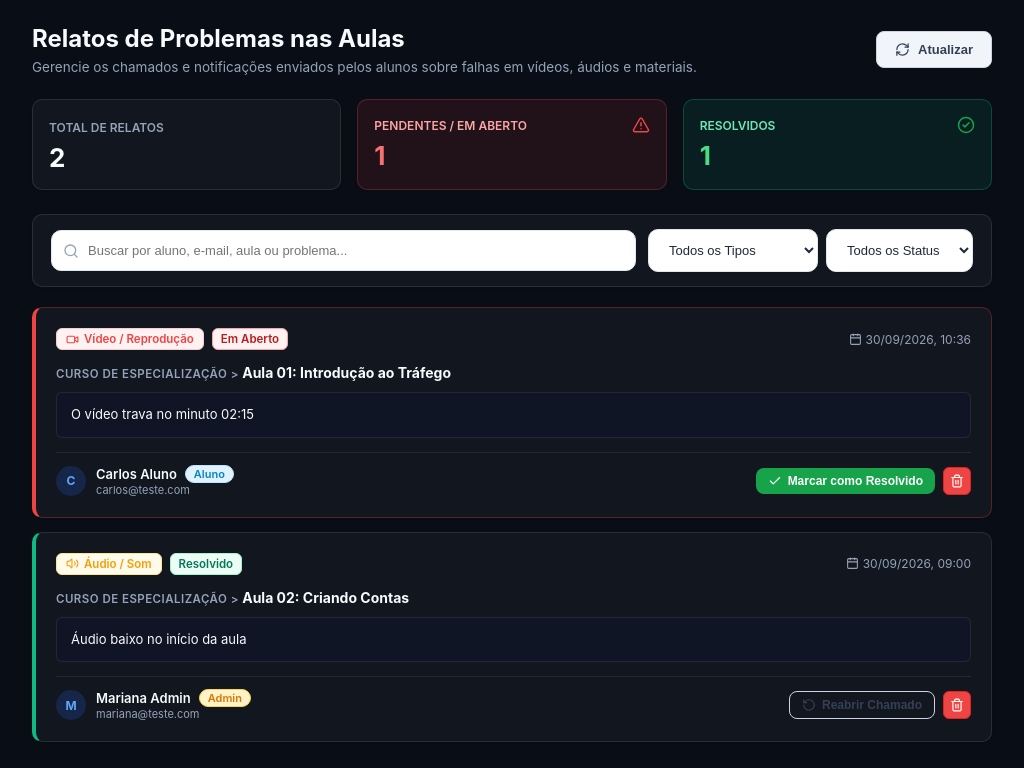
Test case: LessonReportsManagement Component › filters reports by search query and issue type
Expected: the text "Carlos Aluno" is shown, [96,466,177,482]
// Filtra por busca textual
Type "Mariana" into the field with test id "search-reports-input" at {"x": 344, "y": 250}, box [51,230,636,271]
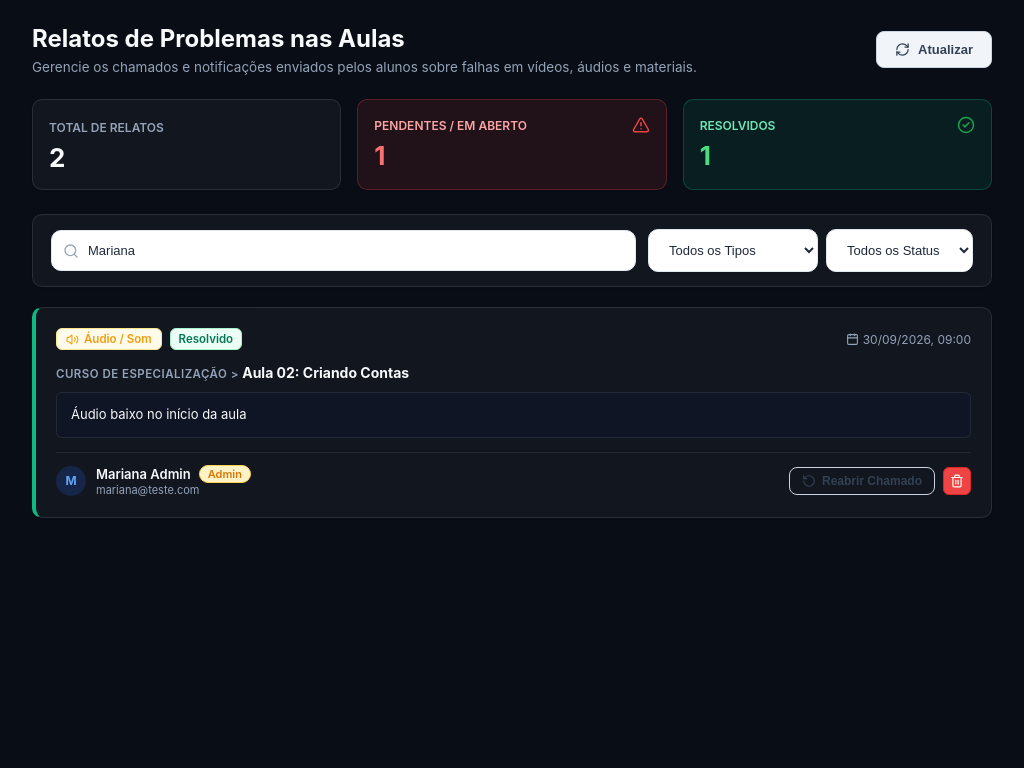
Expected: the text "Mariana Admin" is shown, [96,466,191,482]
Expected: the text "Carlos Aluno" is gone
// Limpa busca e filtra por tipo de problema
Clear the field with test id "search-reports-input" at {"x": 344, "y": 250}, box [51,230,636,271]
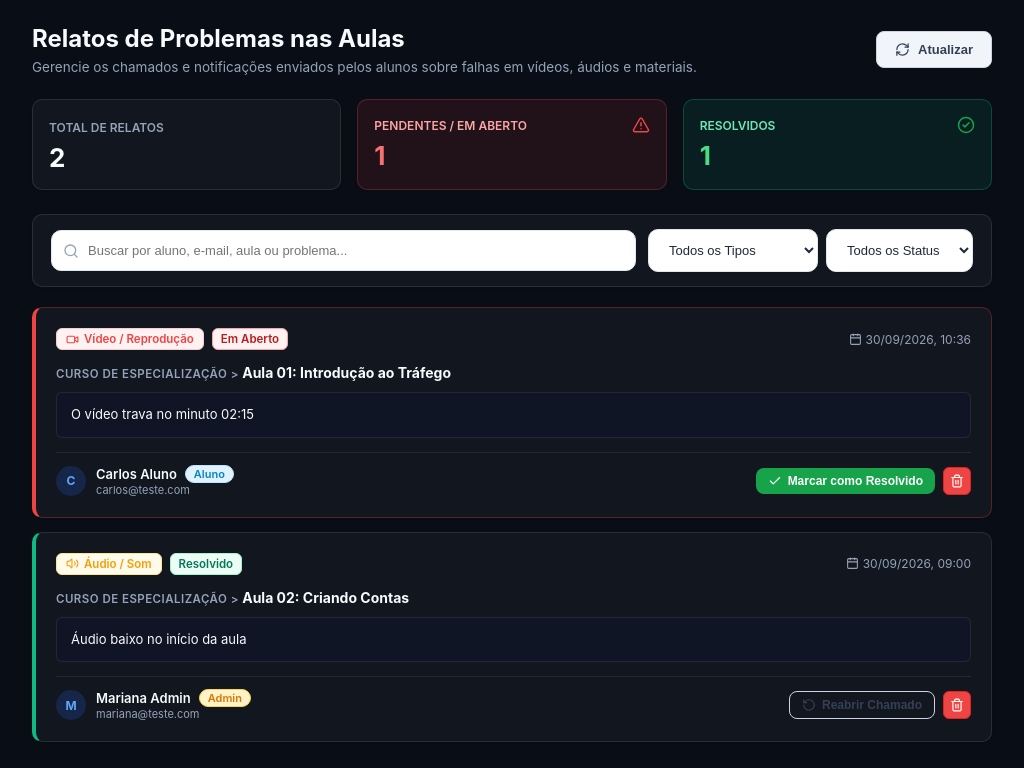
Select "Vídeo / Reprodução" in the dropdown with test id "filter-issue-type" at {"x": 733, "y": 250}, box [648,229,818,272]
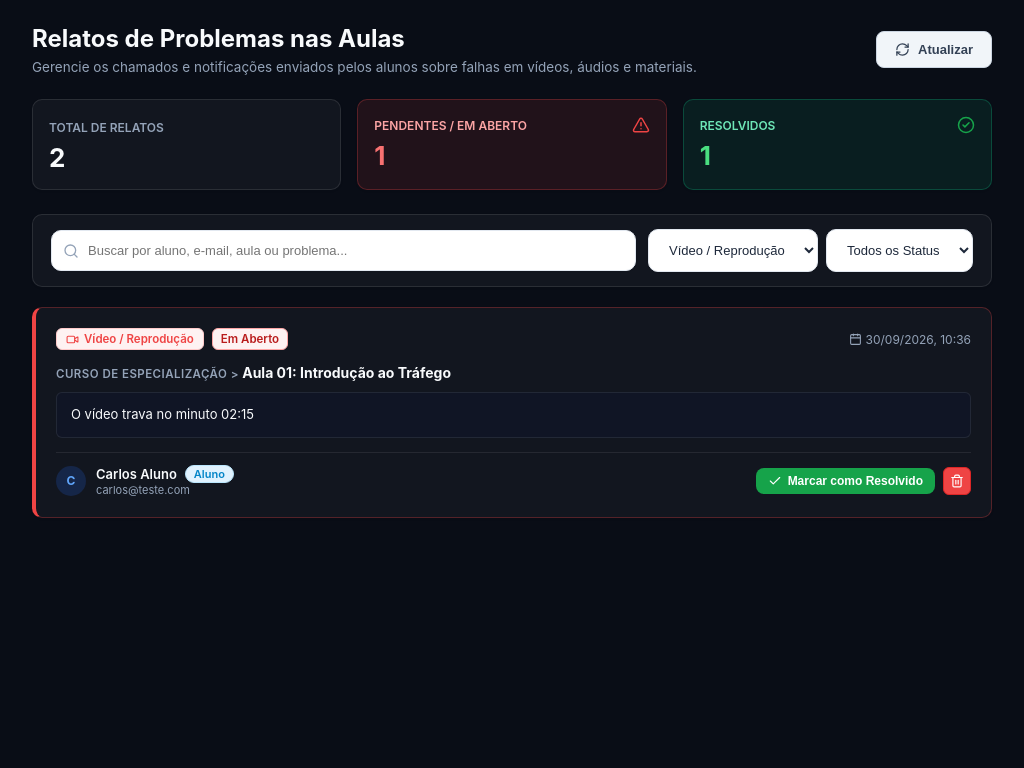
Expected: the text "Carlos Aluno" is shown, [96,466,177,482]
Expected: the text "Mariana Admin" is gone
